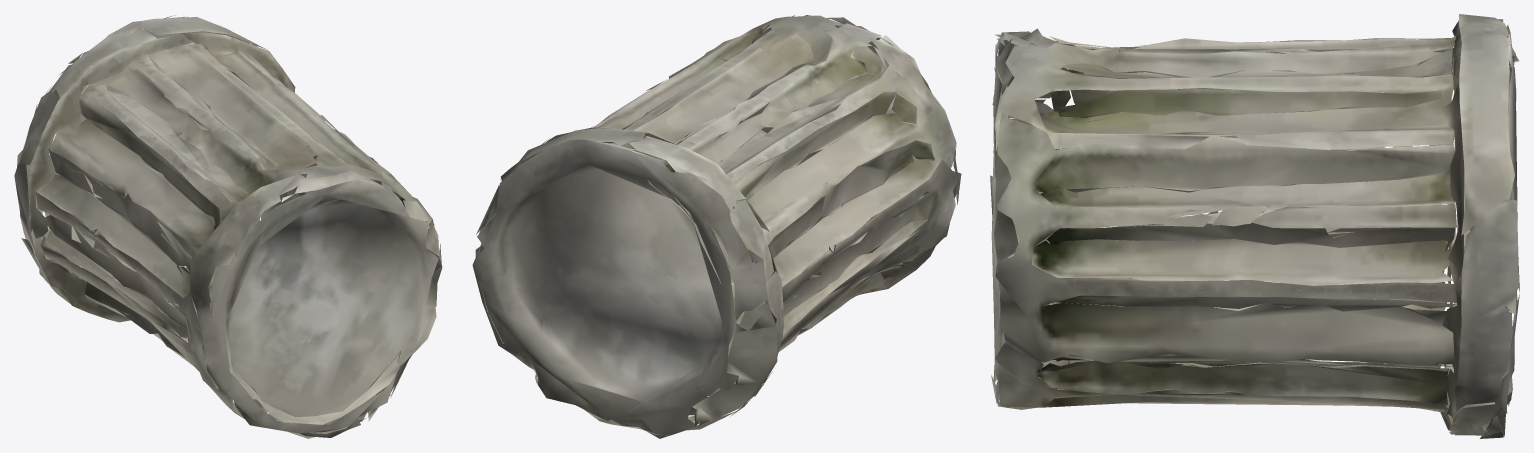
The model's file is column-drum.glb.
3 renders of one model, left to right at view 1: azimuth 30°, elevation 25°; view 2: azimuth 150°, elevation 25°; view 3: azimuth 270°, elevation 25°, orthographic. The views are drawn at different scales.
Visible parts, largest first — view 1: column-drum; view 2: column-drum; view 3: column-drum.
Boxes of the visible parts, x1=… form: column-drum: x1=14, y1=15, x2=442, y2=438; column-drum: x1=472, y1=15, x2=961, y2=438; column-drum: x1=990, y1=14, x2=1519, y2=438.
Bounding box in the file's own units: 0.8126 × 0.7807 × 1.01.
1 material, 1 textured.
